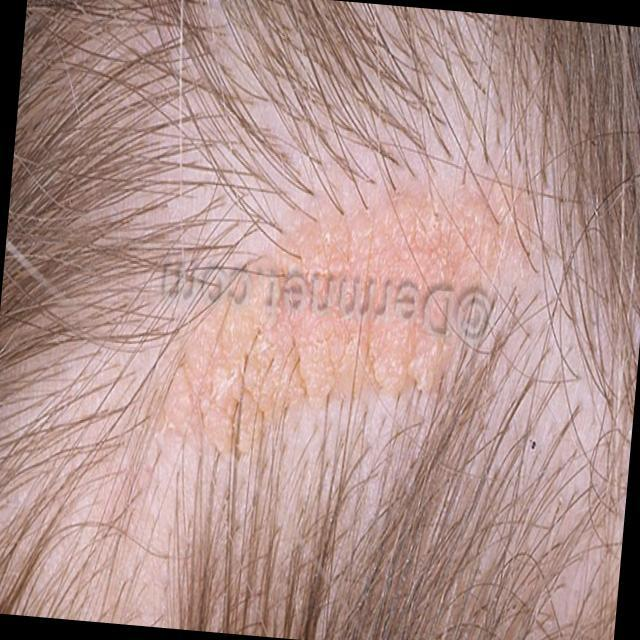Eczema: (157, 180, 512, 428)
